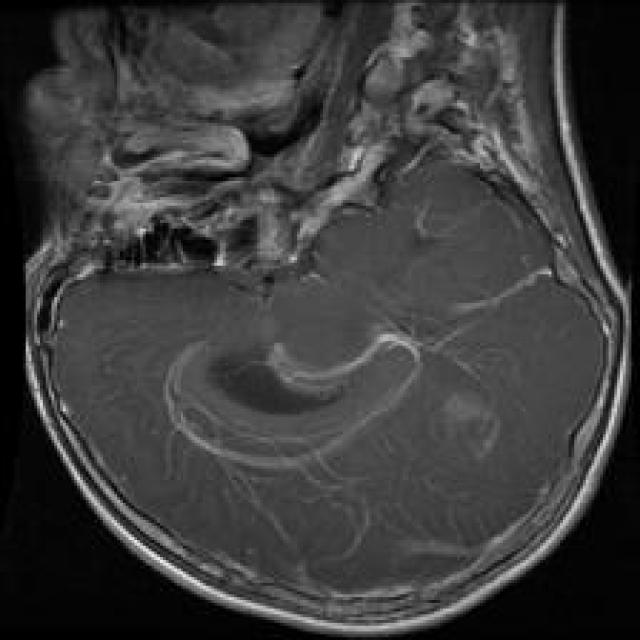glioma_tumor: (148, 324, 515, 480)
